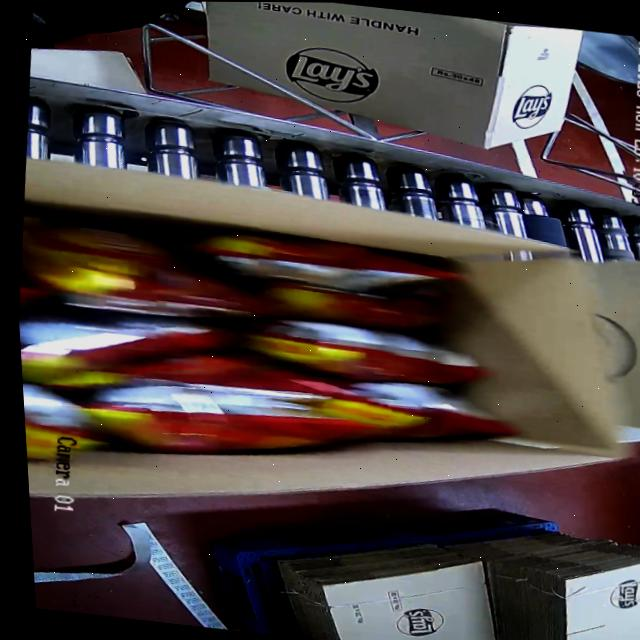MASALA: (12, 195, 501, 480)
